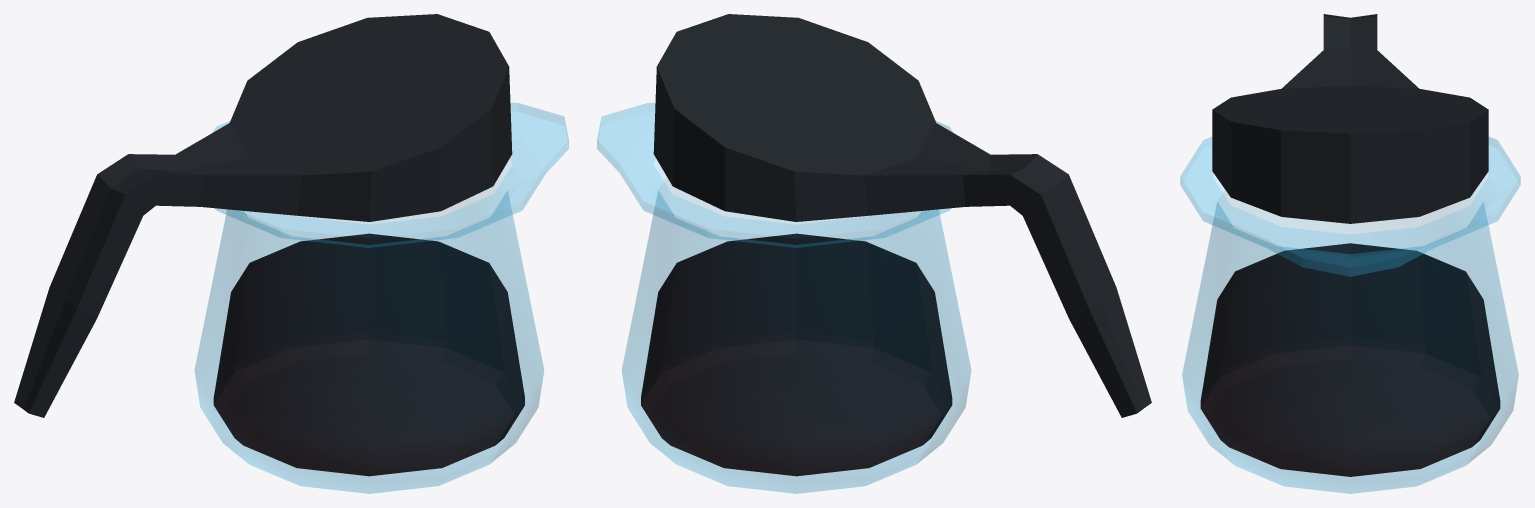
The model's file is SM_coffee_container.fbx.
3 views of the same model, side by side, from view 1: azimuth 30°, elevation 25°; view 2: azimuth 150°, elevation 25°; view 3: azimuth 270°, elevation 25° (orthographic). The views are drawn at different scales.
Parts seen in each view (by area): view 1: coffee_container; view 2: coffee_container; view 3: coffee_container.
Boxes of the visible parts, left/top/right/bottom form: coffee_container: left=14, top=14, right=568, bottom=493; coffee_container: left=597, top=14, right=1151, bottom=493; coffee_container: left=1180, top=14, right=1520, bottom=493.
Bounding box in the file's own units: 44.11 × 29.06 × 24.87.
